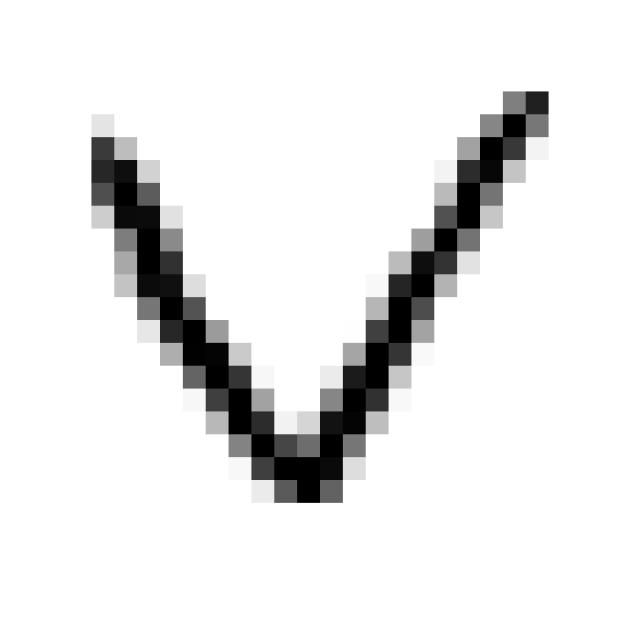7 -seven-: (66, 80, 568, 519)
